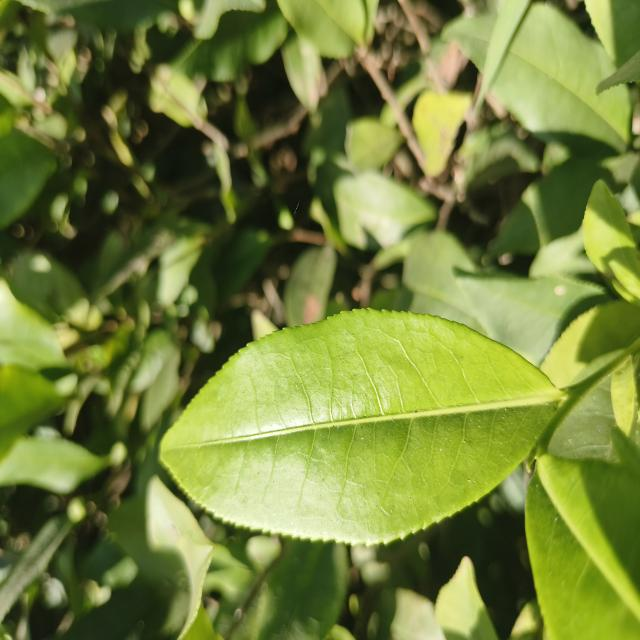Leaf: (160, 309, 561, 544), (525, 455, 640, 640), (490, 3, 631, 152), (489, 153, 638, 256), (456, 272, 606, 366), (238, 539, 348, 640), (319, 162, 436, 249), (177, 0, 289, 81), (583, 181, 640, 304), (0, 437, 109, 494), (0, 278, 66, 370), (0, 129, 56, 229), (435, 556, 498, 640), (277, 0, 365, 58), (412, 91, 472, 176), (284, 245, 337, 326), (442, 14, 495, 81), (611, 356, 637, 435)
